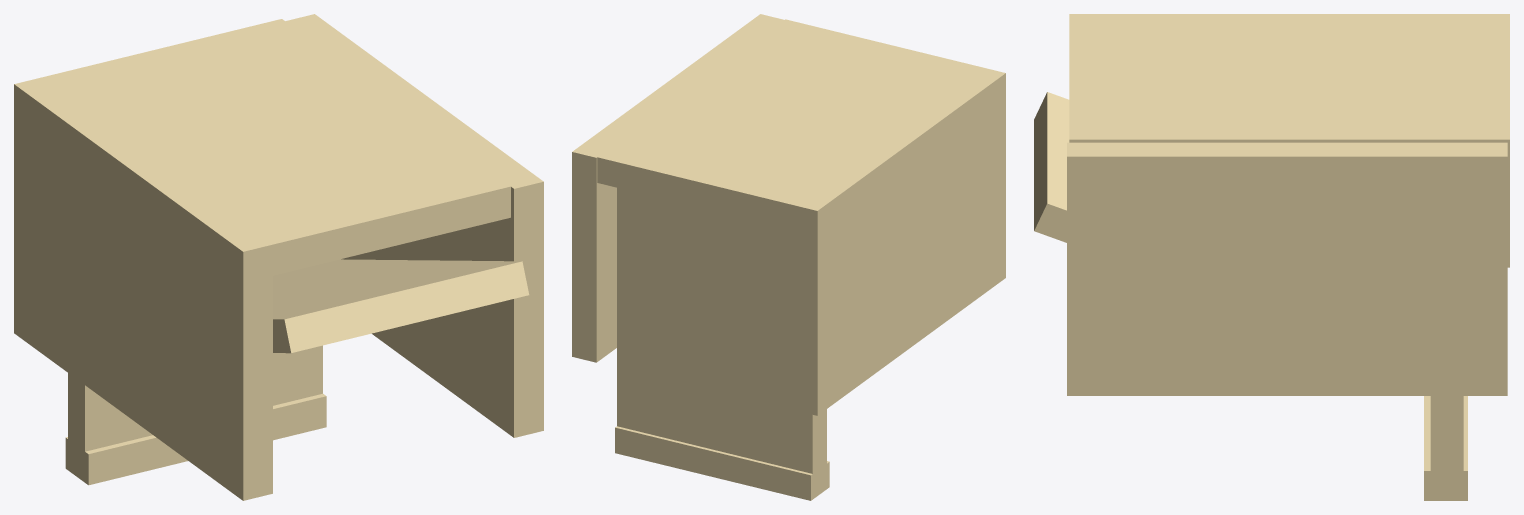
Rendered from tinker.obj.
The picture shows the model from 3 angles, left to right: view 1: azimuth 30°, elevation 25°; view 2: azimuth 150°, elevation 25°; view 3: azimuth 270°, elevation 25°; orthographic projection. The views are drawn at different scales.
Visible parts, largest first — view 1: obj_0; view 2: obj_0; view 3: obj_0.
Boxes of the visible parts, box(x1,y1,x2,y2) form: obj_0: box(14, 14, 543, 500); obj_0: box(572, 14, 1005, 500); obj_0: box(1034, 14, 1509, 500).
Bounding box in the file's own units: 151 × 181 × 216.
